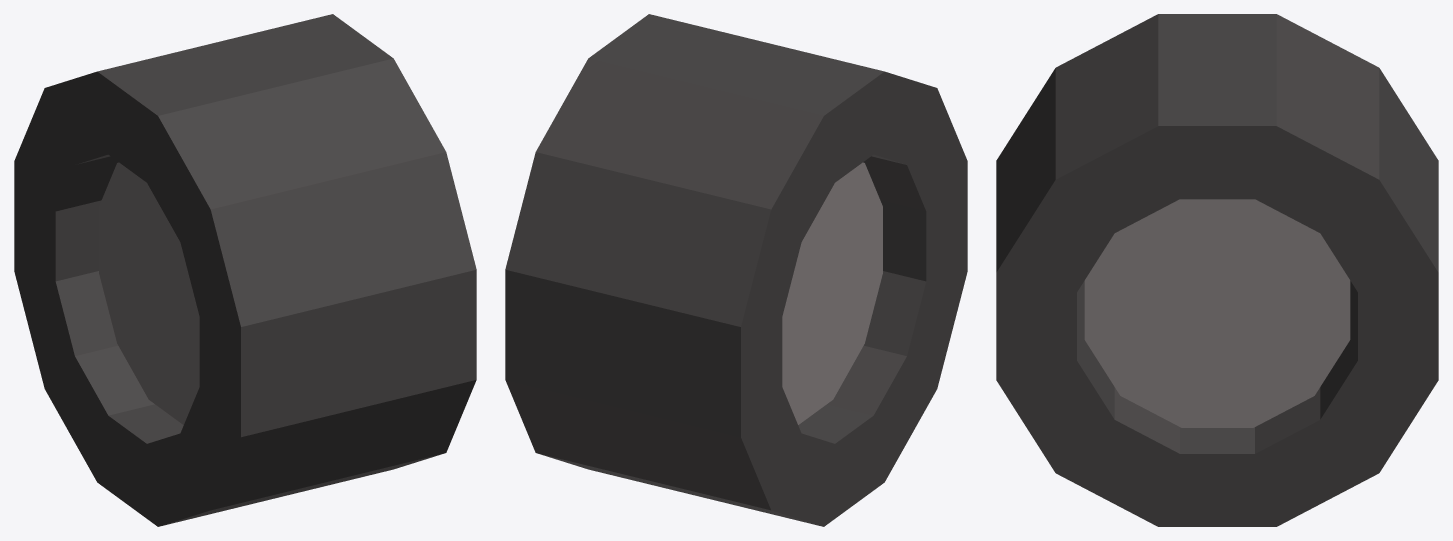
File: dante_wheel (1).fbx
3 renders of one model, left to right at view 1: azimuth 30°, elevation 25°; view 2: azimuth 150°, elevation 25°; view 3: azimuth 270°, elevation 25°, orthographic. The views are drawn at different scales.
Visible parts, largest first — view 1: tube; view 2: tube; view 3: tube.
Boxes of the visible parts, x1,y1,x2,y2 form: tube: (14,14,476,526); tube: (505,14,967,526); tube: (996,14,1438,526).
Bounding box in the file's own units: 18.75 × 31.25 × 31.25.
Materials: 1 (1 with a texture image).
